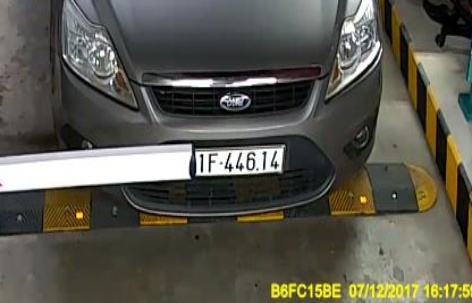plate: (190, 139, 296, 180)
